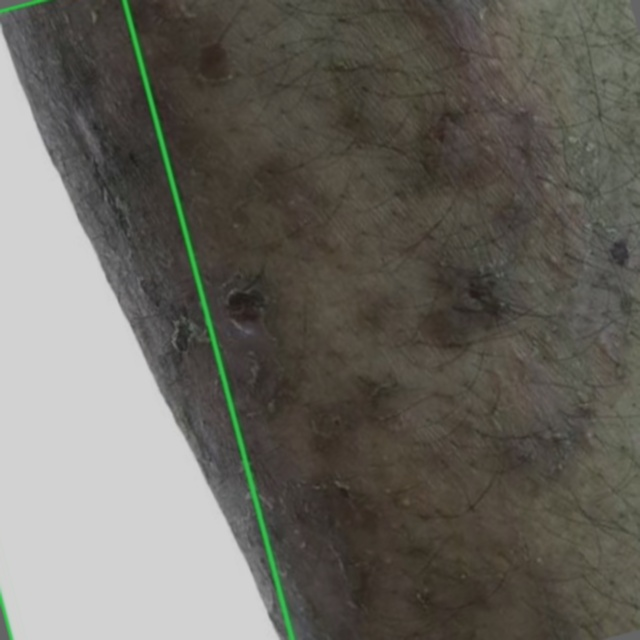Tinea Corporis: (0, 0, 292, 639)
